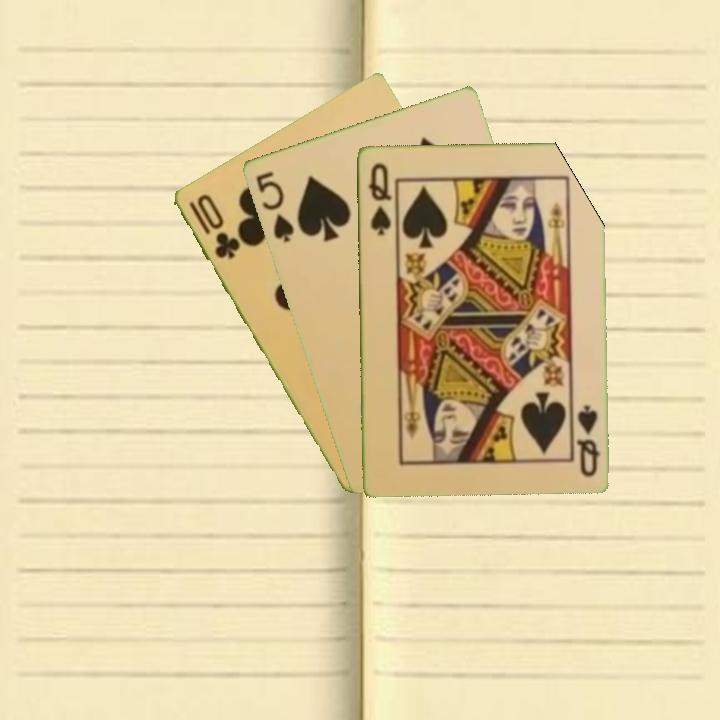10c: (184, 190, 242, 262)
5s: (251, 167, 297, 246)
Qs: (569, 399, 602, 479), (364, 159, 394, 237)
